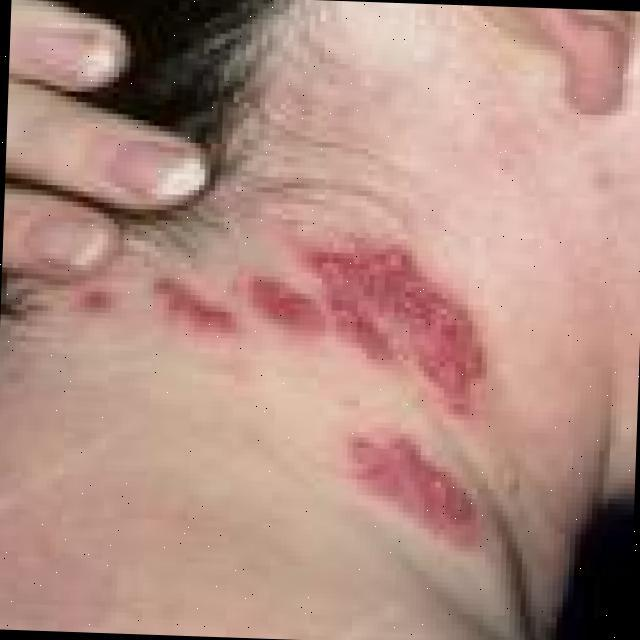Shingles: (67, 238, 492, 550)
